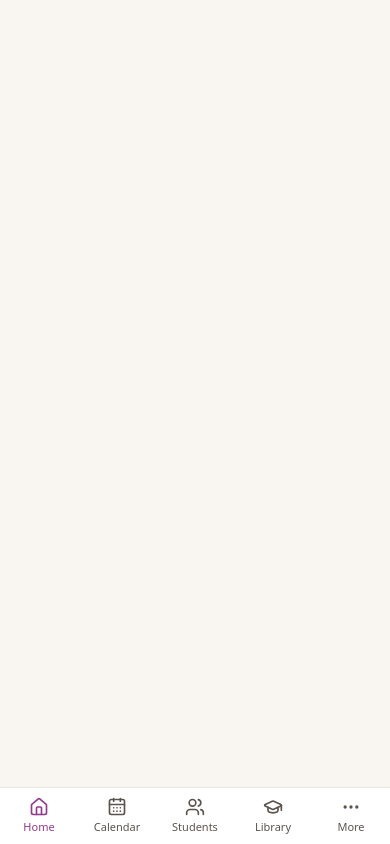
it: MobileNav › opens the More sheet with everything else the app can reach
The image size is (390, 844).
Step 1. Click the button "More" → (351, 816), box [312,788,389,843]
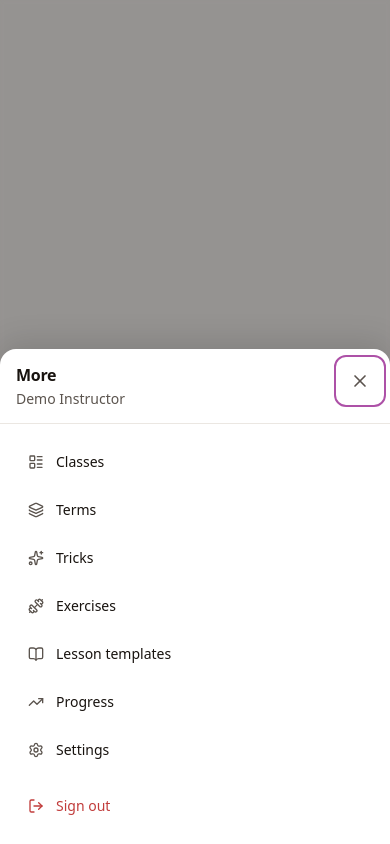
Expected: the link "Terms" is shown, [28,500,96,519]
Expected: the link "Tricks" is shown, [28,548,93,567]
Expected: the link "Settings" is shown, [28,740,109,759]
